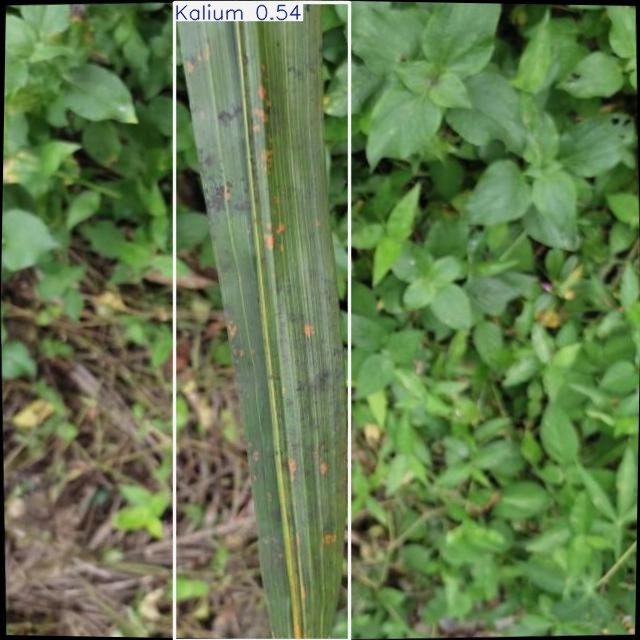Kalium: (175, 2, 350, 640)
